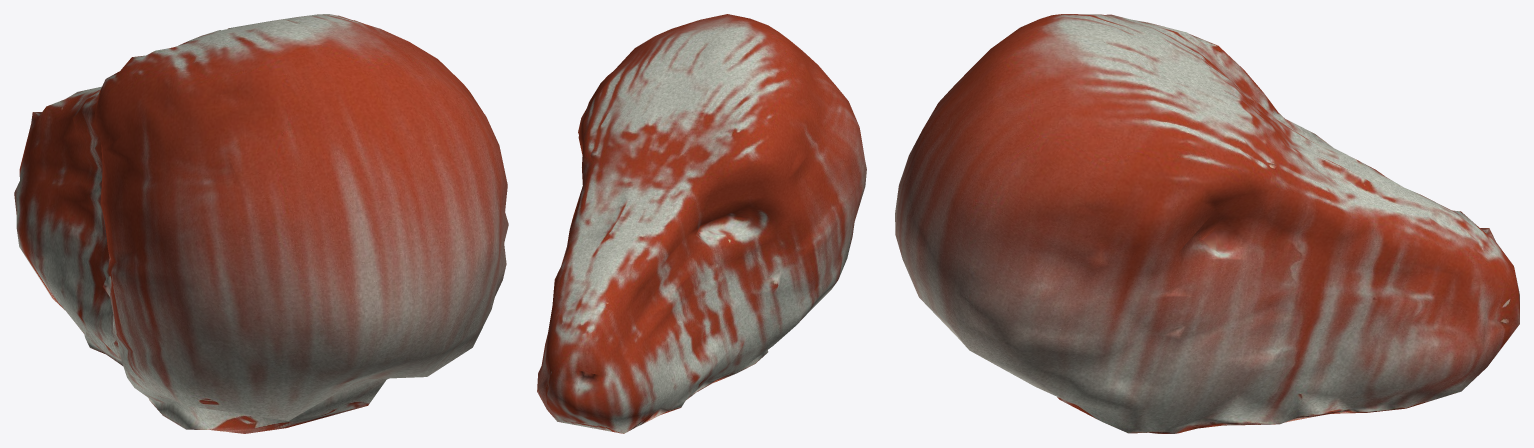
File: ratface.glb
The picture shows the model from 3 angles, left to right: view 1: azimuth 30°, elevation 25°; view 2: azimuth 150°, elevation 25°; view 3: azimuth 270°, elevation 25°; orthographic projection. The views are drawn at different scales.
Parts seen in each view (by area): view 1: ratface_mesh_rgb.export; view 2: ratface_mesh_rgb.export; view 3: ratface_mesh_rgb.export.
Boxes of the visible parts, left/top/right/bottom form: ratface_mesh_rgb.export: left=14, top=14, right=508, bottom=433; ratface_mesh_rgb.export: left=537, top=14, right=866, bottom=433; ratface_mesh_rgb.export: left=895, top=14, right=1519, bottom=433.
Bounding box in the file's own units: 0.4892 × 0.5853 × 0.8998.
Materials: 1 (1 with a texture image).
